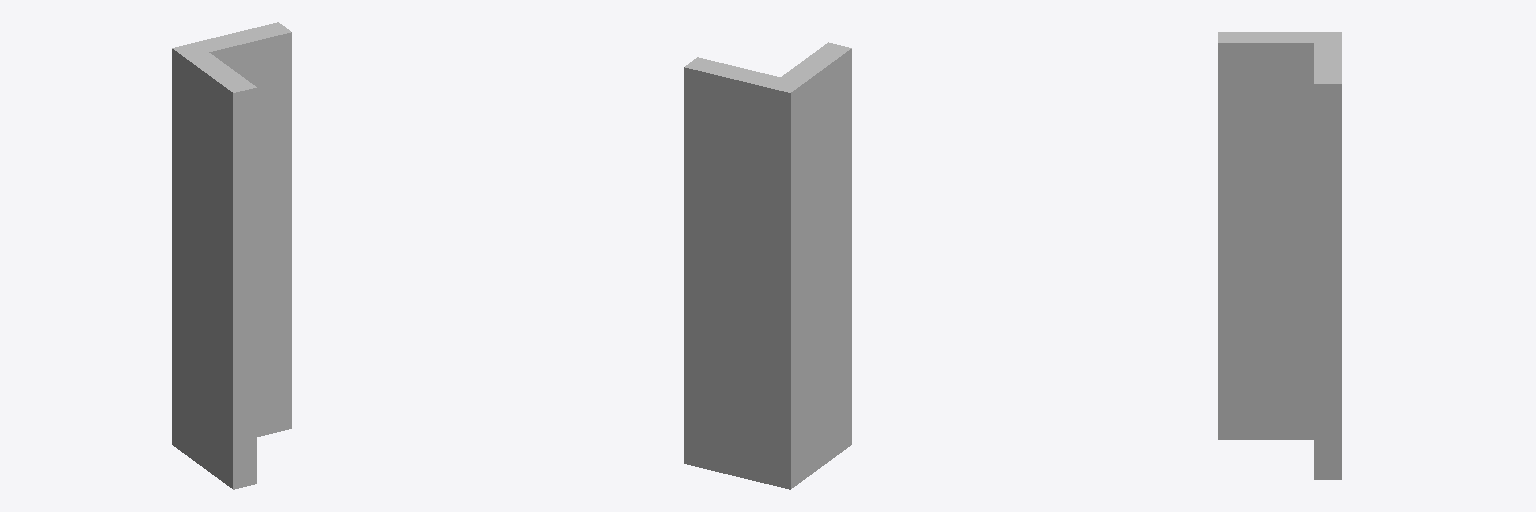
The model's file is corner_default_1x1-1.obj.
3 renders of one model, left to right at view 1: azimuth 30°, elevation 25°; view 2: azimuth 150°, elevation 25°; view 3: azimuth 270°, elevation 25°, orthographic.
Visible parts, largest first — view 1: corner_default_1x1-1_Cube.018; view 2: corner_default_1x1-1_Cube.018; view 3: corner_default_1x1-1_Cube.018.
Boxes of the visible parts, x1,y1,x2,y2 form: corner_default_1x1-1_Cube.018: [172, 22, 291, 489]; corner_default_1x1-1_Cube.018: [684, 42, 851, 489]; corner_default_1x1-1_Cube.018: [1218, 32, 1341, 479].
Bounding box in the file's own units: 2.25 × 8 × 2.25.